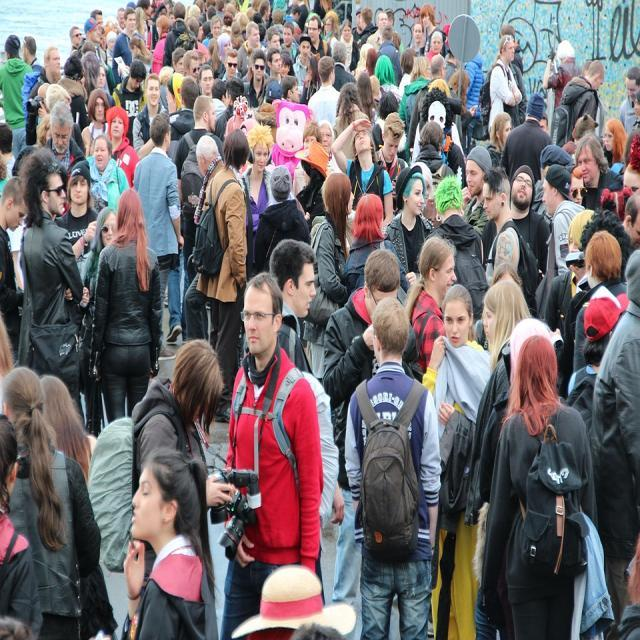Backpacks: (358, 411, 424, 571), (190, 188, 227, 286)
